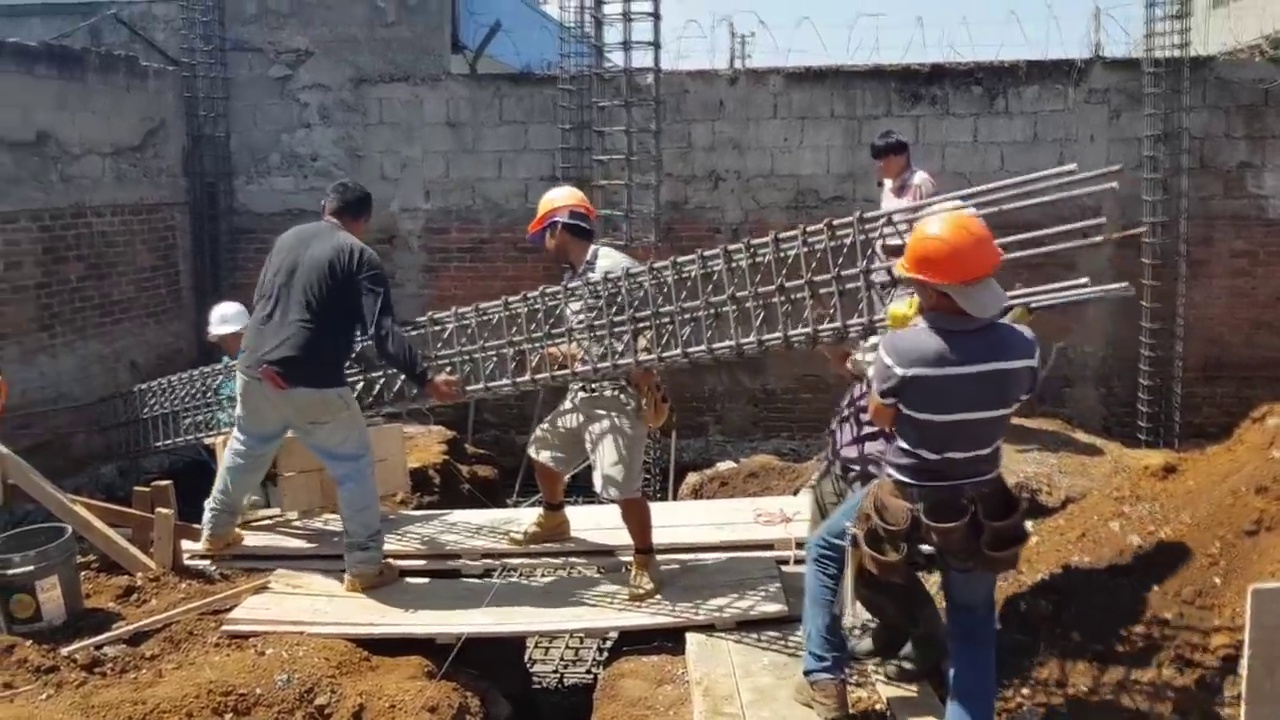helmet: (896, 206, 1005, 292), (521, 188, 588, 241), (203, 304, 249, 343)
helmet-off: (317, 181, 376, 238), (872, 128, 918, 183)
helmet-on: (892, 201, 1004, 330), (520, 184, 600, 269), (201, 304, 248, 364)
person: (790, 198, 1060, 720), (204, 172, 453, 591), (501, 183, 678, 592), (855, 126, 933, 335)
